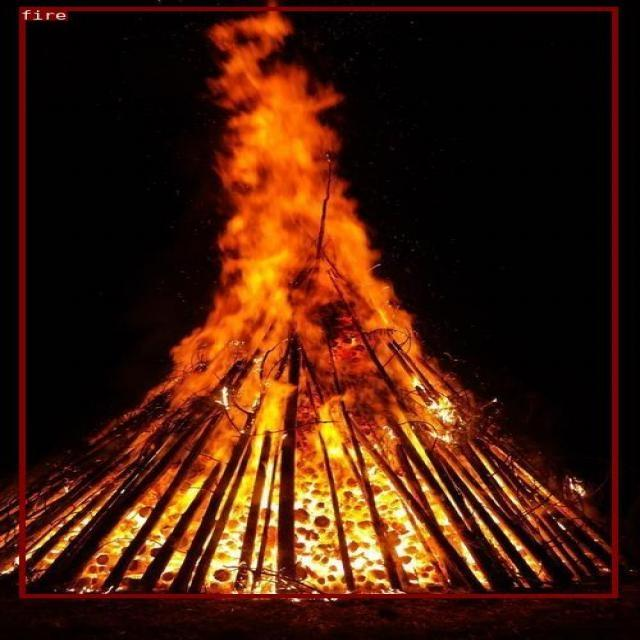fire: (18, 7, 616, 597)
